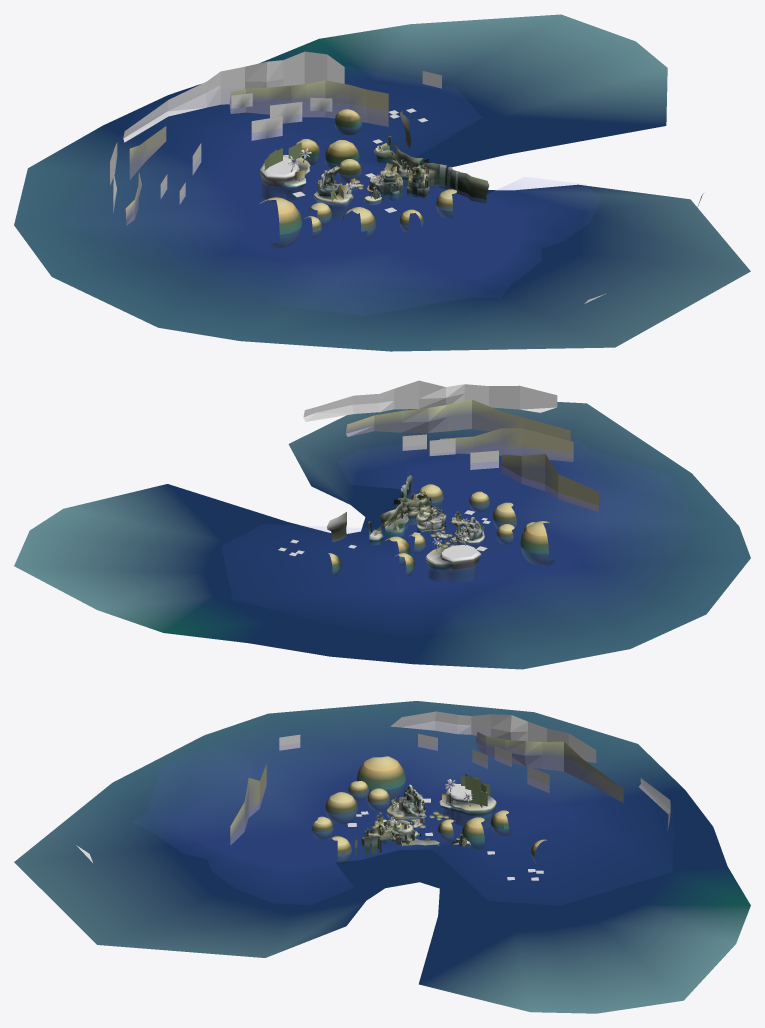
File: 09End.gltf
The picture shows the model from 3 angles, top to bottom: view 1: azimuth 30°, elevation 25°; view 2: azimuth 150°, elevation 25°; view 3: azimuth 270°, elevation 25°; orthographic projection. The views are drawn at different scales.
Parts seen in each view (by area): view 1: stg020_o20_Mesh_28, stg020_w24_Mesh_0, stg020_p20_Mesh_45, stg020_o20_Mesh_8, stg020_o20_Mesh_15, stg020_p20_Mesh_18, stg020_o20_Mesh_10, stg020_p20_Mesh_27; view 2: stg020_o20_Mesh_28, stg020_w24_Mesh_0, stg020_p20_Mesh_45, stg020_o20_Mesh_8, stg020_o20_Mesh_15, stg020_p20_Mesh_18, stg020_o20_Mesh_10; view 3: stg020_o20_Mesh_28, stg020_w24_Mesh_0, stg020_p20_Mesh_45, stg020_o20_Mesh_15, stg020_o20_Mesh_8, stg020_p20_Mesh_18, stg020_o20_Mesh_10, stg020_p20_Mesh_27.
Part boxes in pixels (bbox=[...]): stg020_o20_Mesh_28: bbox=[14, 14, 750, 351]; stg020_w24_Mesh_0: bbox=[139, 100, 572, 302]; stg020_p20_Mesh_45: bbox=[110, 51, 703, 303]; stg020_o20_Mesh_8: bbox=[259, 111, 489, 219]; stg020_o20_Mesh_15: bbox=[270, 112, 452, 248]; stg020_p20_Mesh_18: bbox=[160, 71, 441, 204]; stg020_o20_Mesh_10: bbox=[259, 109, 456, 223]; stg020_p20_Mesh_27: bbox=[264, 142, 422, 201]; stg020_o20_Mesh_28: bbox=[14, 402, 750, 669]; stg020_w24_Mesh_0: bbox=[285, 446, 651, 610]; stg020_p20_Mesh_45: bbox=[303, 380, 598, 512]; stg020_o20_Mesh_8: bbox=[327, 472, 484, 582]; stg020_o20_Mesh_15: bbox=[331, 489, 555, 576]; stg020_p20_Mesh_18: bbox=[402, 434, 498, 469]; stg020_o20_Mesh_10: bbox=[328, 484, 549, 560]; stg020_o20_Mesh_28: bbox=[14, 701, 750, 1013]; stg020_w24_Mesh_0: bbox=[158, 734, 622, 891]; stg020_p20_Mesh_45: bbox=[76, 711, 670, 862]; stg020_o20_Mesh_15: bbox=[311, 762, 537, 863]; stg020_o20_Mesh_8: bbox=[361, 785, 496, 852]; stg020_p20_Mesh_18: bbox=[279, 733, 549, 793]; stg020_o20_Mesh_10: bbox=[315, 756, 546, 846]; stg020_p20_Mesh_27: bbox=[378, 773, 490, 846].
Size of the model in its own units: 1136 by 92.22 by 1131.
